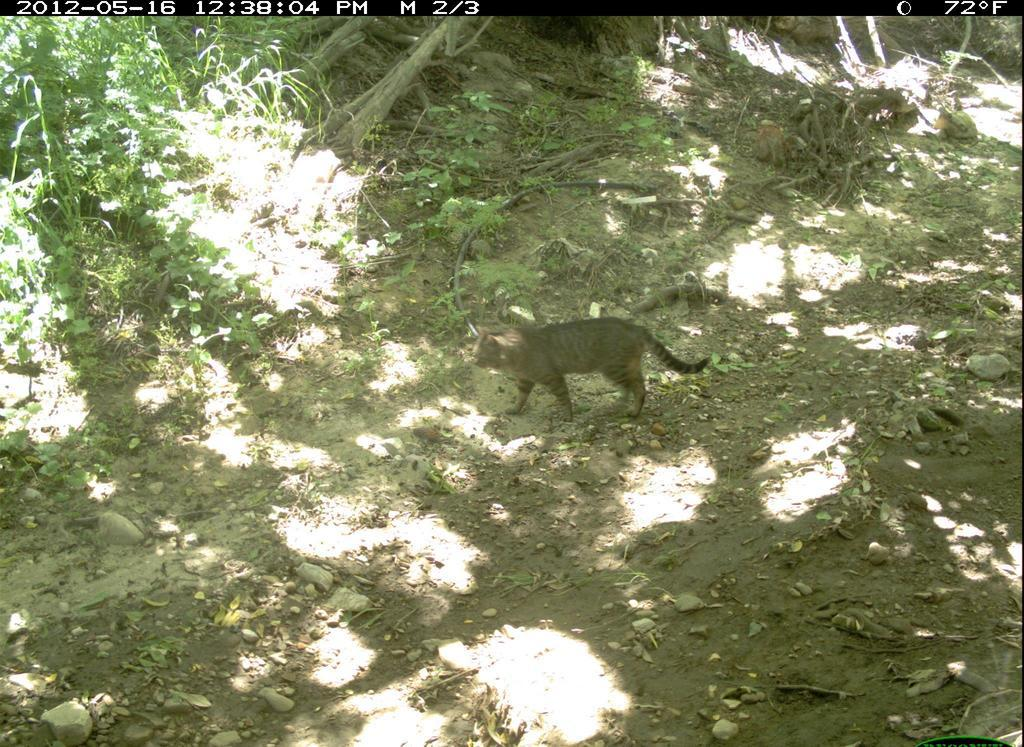cat: (474, 310, 720, 431)
